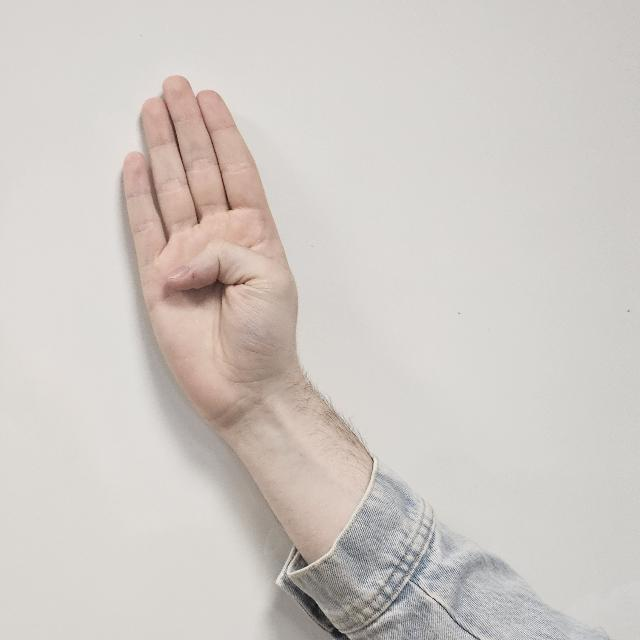Baixo: (111, 69, 302, 448)
